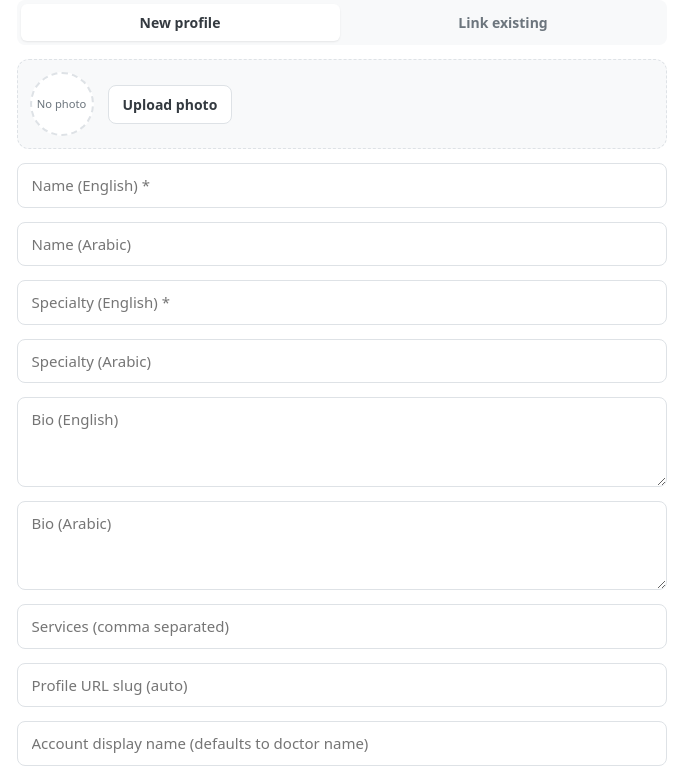
Test: DoctorForm — smart admin creation (5 cases) › 4. auto-generates the URL slug from the English name
Type "Dr. Sarah Chen" into the field with placeholder "Name (English) *" at (342, 185), box [16,163,666,208]
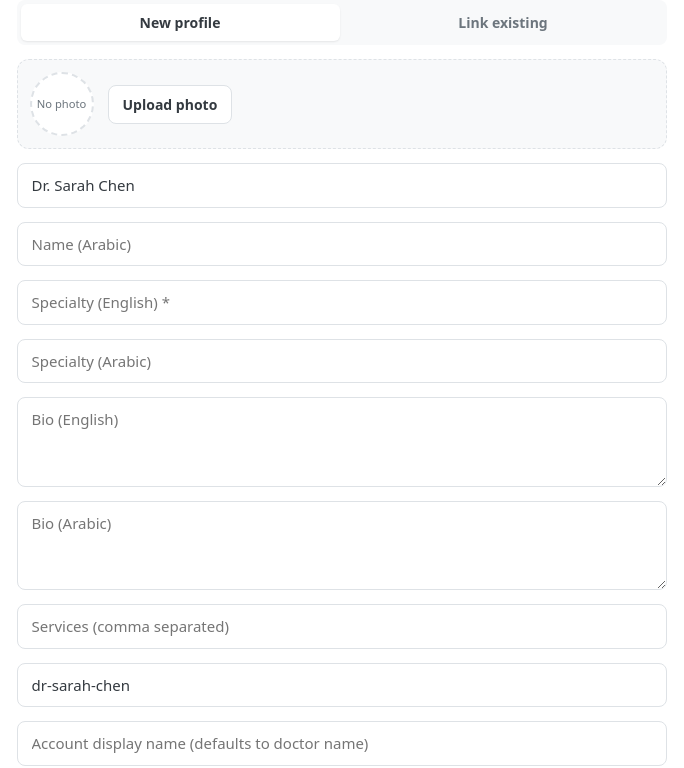
Now the 2nd field with placeholder "Profile URL slug (auto)" holds "dr-sarah-chen", box [16,662,666,707]
